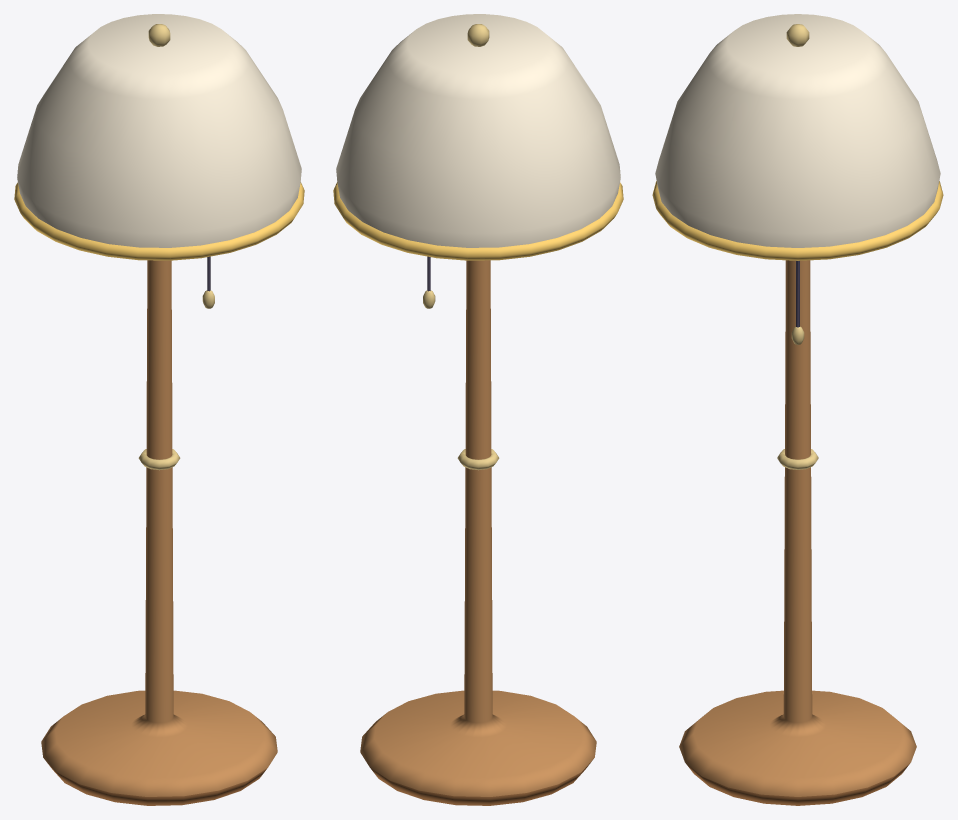
File: floor_lamp.glb
The picture shows the model from 3 angles, left to right: view 1: azimuth 30°, elevation 25°; view 2: azimuth 150°, elevation 25°; view 3: azimuth 270°, elevation 25°; orthographic projection.
Parts seen in each view (by area): view 1: floor_lamp; view 2: floor_lamp; view 3: floor_lamp.
Part boxes in pixels (x1,y1,x2,y2): floor_lamp: (14, 14, 304, 805); floor_lamp: (333, 14, 623, 805); floor_lamp: (652, 14, 943, 805).
Size of the model in its own units: 0.612 by 1.71 by 0.612.
1 material, 1 textured.
